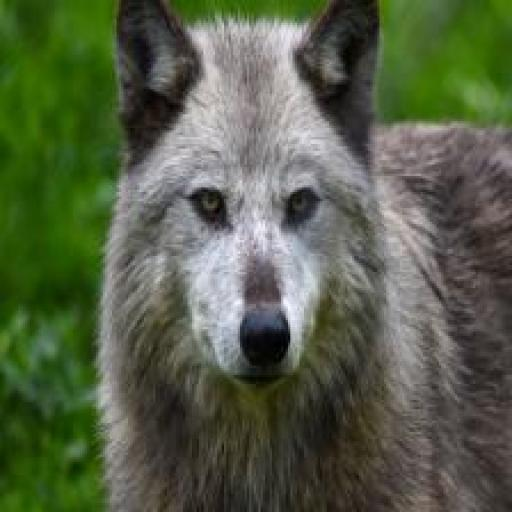wolf: (73, 0, 512, 512)
